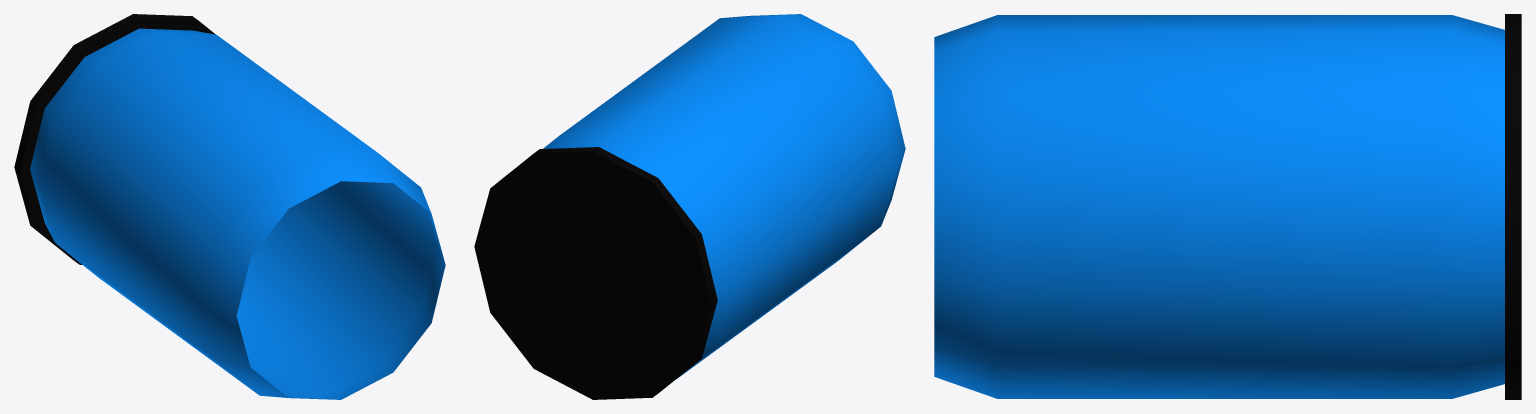
3 renders of one model, left to right at view 1: azimuth 30°, elevation 25°; view 2: azimuth 150°, elevation 25°; view 3: azimuth 270°, elevation 25°, orthographic. The views are drawn at different scales.
Parts seen in each view (by area): view 1: Circle; view 2: Circle; view 3: Circle.
Boxes of the visible parts, <box> form: Circle: <box>14,14,445,399</box>; Circle: <box>474,14,905,399</box>; Circle: <box>934,14,1521,399</box>.
Bounding box in the file's own units: 39.28 × 39.28 × 59.57.
